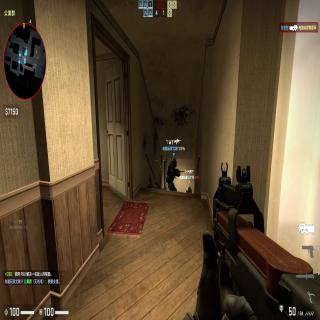CT-Head: (173, 159, 177, 168)
